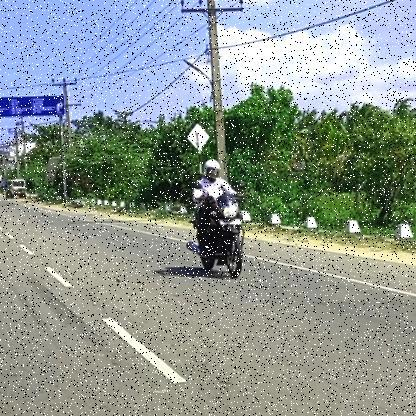motorcycle: (181, 194, 254, 284)
